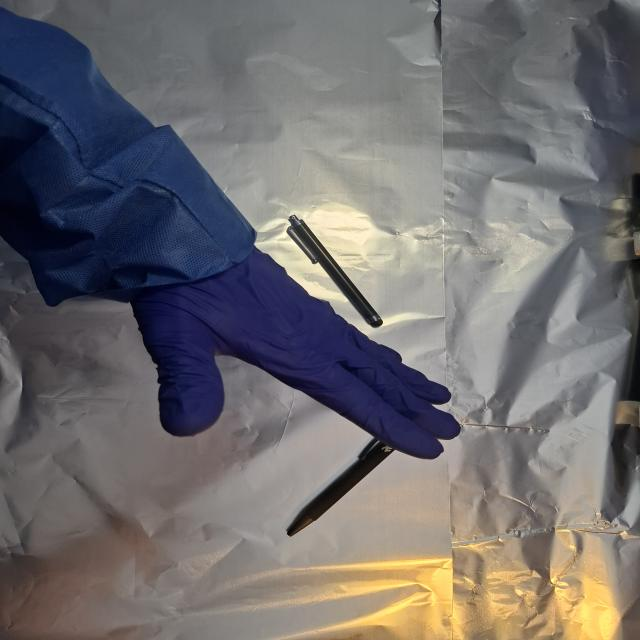glove_on: (129, 244, 464, 461)
